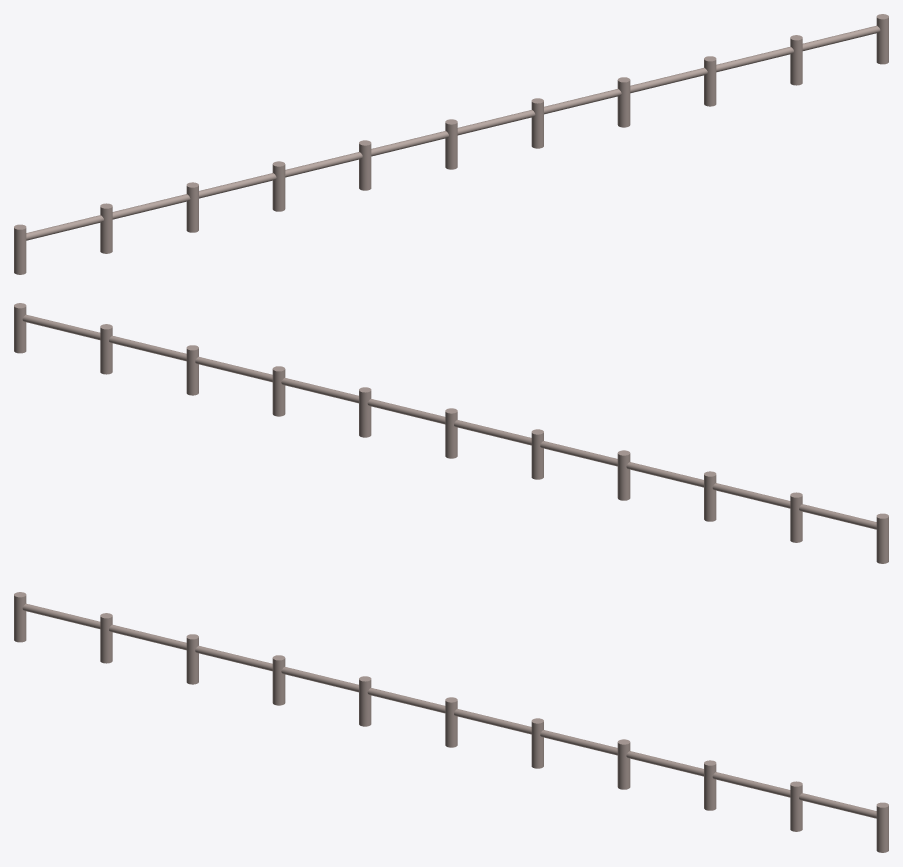
The model's file is 1016_fence_10.glb.
3 renders of one model, top to bottom at view 1: azimuth 30°, elevation 25°; view 2: azimuth 150°, elevation 25°; view 3: azimuth 330°, elevation 25°, orthographic.
Parts seen in each view (by area): view 1: Body10; view 2: Body10; view 3: Body10.
Boxes of the visible parts, bbox=[...] form: Body10: bbox=[14, 14, 888, 274]; Body10: bbox=[14, 303, 888, 563]; Body10: bbox=[14, 592, 888, 852].
Size of the model in its own units: 12.15 by 0.6 by 0.15.
